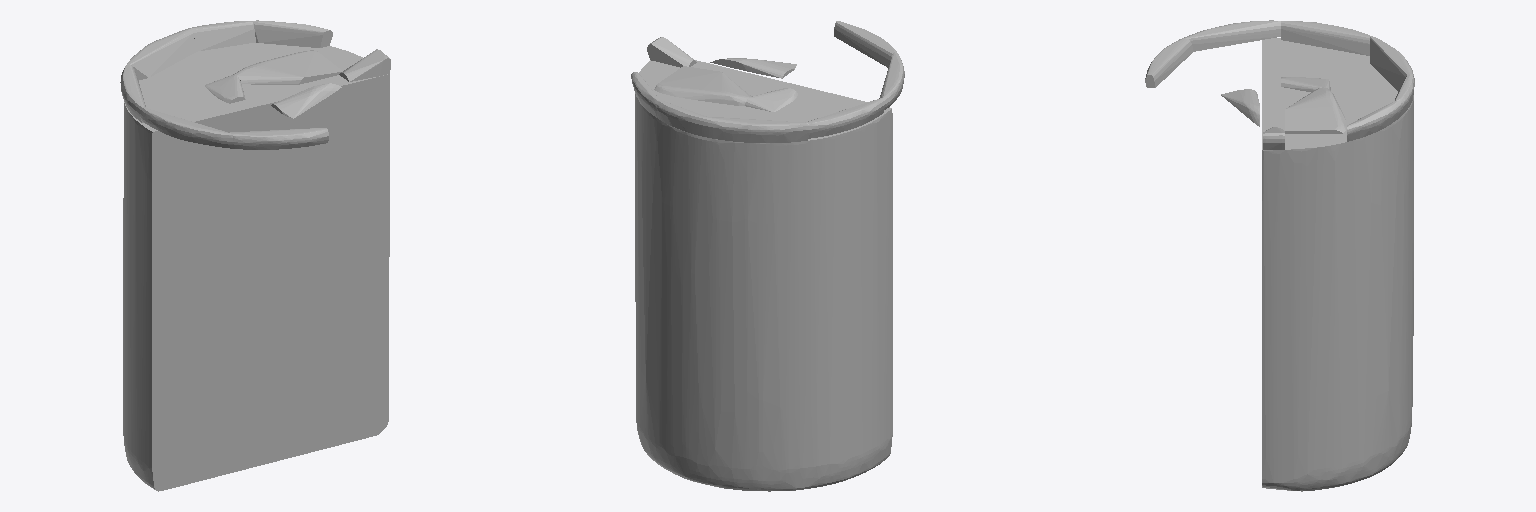
robot.urdf — root:
<robot name="root"><link name="body"><visual>
      <origin xyz="0 0 0" rpy="0 0 0" />
      <geometry>
        <mesh filename="coacd_convex_piece_0.obj" scale="1.0000E+00 1.0000E+00 1.0000E+00" />
      </geometry>
      <material name="">
        <color rgba="7.50E-01 7.50E-01 7.50E-01 1" />
      </material>
    </visual>
    <collision>
      <origin xyz="0 0 0" rpy="0 0 0" />
      <geometry>
        <mesh filename="coacd_convex_piece_0.obj" scale="1.0000E+00 1.0000E+00 1.0000E+00" />
      </geometry>
    </collision>
  <visual>
      <origin xyz="0 0 0" rpy="0 0 0" />
      <geometry>
        <mesh filename="coacd_convex_piece_1.obj" scale="1.0000E+00 1.0000E+00 1.0000E+00" />
      </geometry>
      <material name="">
        <color rgba="7.50E-01 7.50E-01 7.50E-01 1" />
      </material>
    </visual>
    <collision>
      <origin xyz="0 0 0" rpy="0 0 0" />
      <geometry>
        <mesh filename="coacd_convex_piece_1.obj" scale="1.0000E+00 1.0000E+00 1.0000E+00" />
      </geometry>
    </collision>
  <visual>
      <origin xyz="0 0 0" rpy="0 0 0" />
      <geometry>
        <mesh filename="coacd_convex_piece_2.obj" scale="1.0000E+00 1.0000E+00 1.0000E+00" />
      </geometry>
      <material name="">
        <color rgba="7.50E-01 7.50E-01 7.50E-01 1" />
      </material>
    </visual>
    <collision>
      <origin xyz="0 0 0" rpy="0 0 0" />
      <geometry>
        <mesh filename="coacd_convex_piece_2.obj" scale="1.0000E+00 1.0000E+00 1.0000E+00" />
      </geometry>
    </collision>
  <visual>
      <origin xyz="0 0 0" rpy="0 0 0" />
      <geometry>
        <mesh filename="coacd_convex_piece_3.obj" scale="1.0000E+00 1.0000E+00 1.0000E+00" />
      </geometry>
      <material name="">
        <color rgba="7.50E-01 7.50E-01 7.50E-01 1" />
      </material>
    </visual>
    <collision>
      <origin xyz="0 0 0" rpy="0 0 0" />
      <geometry>
        <mesh filename="coacd_convex_piece_3.obj" scale="1.0000E+00 1.0000E+00 1.0000E+00" />
      </geometry>
    </collision>
  <visual>
      <origin xyz="0 0 0" rpy="0 0 0" />
      <geometry>
        <mesh filename="coacd_convex_piece_4.obj" scale="1.0000E+00 1.0000E+00 1.0000E+00" />
      </geometry>
      <material name="">
        <color rgba="7.50E-01 7.50E-01 7.50E-01 1" />
      </material>
    </visual>
    <collision>
      <origin xyz="0 0 0" rpy="0 0 0" />
      <geometry>
        <mesh filename="coacd_convex_piece_4.obj" scale="1.0000E+00 1.0000E+00 1.0000E+00" />
      </geometry>
    </collision>
  <visual>
      <origin xyz="0 0 0" rpy="0 0 0" />
      <geometry>
        <mesh filename="coacd_convex_piece_5.obj" scale="1.0000E+00 1.0000E+00 1.0000E+00" />
      </geometry>
      <material name="">
        <color rgba="7.50E-01 7.50E-01 7.50E-01 1" />
      </material>
    </visual>
    <collision>
      <origin xyz="0 0 0" rpy="0 0 0" />
      <geometry>
        <mesh filename="coacd_convex_piece_5.obj" scale="1.0000E+00 1.0000E+00 1.0000E+00" />
      </geometry>
    </collision>
  <visual>
      <origin xyz="0 0 0" rpy="0 0 0" />
      <geometry>
        <mesh filename="coacd_convex_piece_6.obj" scale="1.0000E+00 1.0000E+00 1.0000E+00" />
      </geometry>
      <material name="">
        <color rgba="7.50E-01 7.50E-01 7.50E-01 1" />
      </material>
    </visual>
    <collision>
      <origin xyz="0 0 0" rpy="0 0 0" />
      <geometry>
        <mesh filename="coacd_convex_piece_6.obj" scale="1.0000E+00 1.0000E+00 1.0000E+00" />
      </geometry>
    </collision>
  <visual>
      <origin xyz="0 0 0" rpy="0 0 0" />
      <geometry>
        <mesh filename="coacd_convex_piece_7.obj" scale="1.0000E+00 1.0000E+00 1.0000E+00" />
      </geometry>
      <material name="">
        <color rgba="7.50E-01 7.50E-01 7.50E-01 1" />
      </material>
    </visual>
    <collision>
      <origin xyz="0 0 0" rpy="0 0 0" />
      <geometry>
        <mesh filename="coacd_convex_piece_7.obj" scale="1.0000E+00 1.0000E+00 1.0000E+00" />
      </geometry>
    </collision>
  <visual>
      <origin xyz="0 0 0" rpy="0 0 0" />
      <geometry>
        <mesh filename="coacd_convex_piece_8.obj" scale="1.0000E+00 1.0000E+00 1.0000E+00" />
      </geometry>
      <material name="">
        <color rgba="7.50E-01 7.50E-01 7.50E-01 1" />
      </material>
    </visual>
    <collision>
      <origin xyz="0 0 0" rpy="0 0 0" />
      <geometry>
        <mesh filename="coacd_convex_piece_8.obj" scale="1.0000E+00 1.0000E+00 1.0000E+00" />
      </geometry>
    </collision>
  <visual>
      <origin xyz="0 0 0" rpy="0 0 0" />
      <geometry>
        <mesh filename="coacd_convex_piece_9.obj" scale="1.0000E+00 1.0000E+00 1.0000E+00" />
      </geometry>
      <material name="">
        <color rgba="7.50E-01 7.50E-01 7.50E-01 1" />
      </material>
    </visual>
    <collision>
      <origin xyz="0 0 0" rpy="0 0 0" />
      <geometry>
        <mesh filename="coacd_convex_piece_9.obj" scale="1.0000E+00 1.0000E+00 1.0000E+00" />
      </geometry>
    </collision>
  <visual>
      <origin xyz="0 0 0" rpy="0 0 0" />
      <geometry>
        <mesh filename="coacd_convex_piece_10.obj" scale="1.0000E+00 1.0000E+00 1.0000E+00" />
      </geometry>
      <material name="">
        <color rgba="7.50E-01 7.50E-01 7.50E-01 1" />
      </material>
    </visual>
    <collision>
      <origin xyz="0 0 0" rpy="0 0 0" />
      <geometry>
        <mesh filename="coacd_convex_piece_10.obj" scale="1.0000E+00 1.0000E+00 1.0000E+00" />
      </geometry>
    </collision>
  <visual>
      <origin xyz="0 0 0" rpy="0 0 0" />
      <geometry>
        <mesh filename="coacd_convex_piece_11.obj" scale="1.0000E+00 1.0000E+00 1.0000E+00" />
      </geometry>
      <material name="">
        <color rgba="7.50E-01 7.50E-01 7.50E-01 1" />
      </material>
    </visual>
    <collision>
      <origin xyz="0 0 0" rpy="0 0 0" />
      <geometry>
        <mesh filename="coacd_convex_piece_11.obj" scale="1.0000E+00 1.0000E+00 1.0000E+00" />
      </geometry>
    </collision>
  <visual>
      <origin xyz="0 0 0" rpy="0 0 0" />
      <geometry>
        <mesh filename="coacd_convex_piece_12.obj" scale="1.0000E+00 1.0000E+00 1.0000E+00" />
      </geometry>
      <material name="">
        <color rgba="7.50E-01 7.50E-01 7.50E-01 1" />
      </material>
    </visual>
    <collision>
      <origin xyz="0 0 0" rpy="0 0 0" />
      <geometry>
        <mesh filename="coacd_convex_piece_12.obj" scale="1.0000E+00 1.0000E+00 1.0000E+00" />
      </geometry>
    </collision>
  <visual>
      <origin xyz="0 0 0" rpy="0 0 0" />
      <geometry>
        <mesh filename="coacd_convex_piece_13.obj" scale="1.0000E+00 1.0000E+00 1.0000E+00" />
      </geometry>
      <material name="">
        <color rgba="7.50E-01 7.50E-01 7.50E-01 1" />
      </material>
    </visual>
    <collision>
      <origin xyz="0 0 0" rpy="0 0 0" />
      <geometry>
        <mesh filename="coacd_convex_piece_13.obj" scale="1.0000E+00 1.0000E+00 1.0000E+00" />
      </geometry>
    </collision>
  <visual>
      <origin xyz="0 0 0" rpy="0 0 0" />
      <geometry>
        <mesh filename="coacd_convex_piece_14.obj" scale="1.0000E+00 1.0000E+00 1.0000E+00" />
      </geometry>
      <material name="">
        <color rgba="7.50E-01 7.50E-01 7.50E-01 1" />
      </material>
    </visual>
    <collision>
      <origin xyz="0 0 0" rpy="0 0 0" />
      <geometry>
        <mesh filename="coacd_convex_piece_14.obj" scale="1.0000E+00 1.0000E+00 1.0000E+00" />
      </geometry>
    </collision>
  <visual>
      <origin xyz="0 0 0" rpy="0 0 0" />
      <geometry>
        <mesh filename="coacd_convex_piece_15.obj" scale="1.0000E+00 1.0000E+00 1.0000E+00" />
      </geometry>
      <material name="">
        <color rgba="7.50E-01 7.50E-01 7.50E-01 1" />
      </material>
    </visual>
    <collision>
      <origin xyz="0 0 0" rpy="0 0 0" />
      <geometry>
        <mesh filename="coacd_convex_piece_15.obj" scale="1.0000E+00 1.0000E+00 1.0000E+00" />
      </geometry>
    </collision>
  <visual>
      <origin xyz="0 0 0" rpy="0 0 0" />
      <geometry>
        <mesh filename="coacd_convex_piece_16.obj" scale="1.0000E+00 1.0000E+00 1.0000E+00" />
      </geometry>
      <material name="">
        <color rgba="7.50E-01 7.50E-01 7.50E-01 1" />
      </material>
    </visual>
    <collision>
      <origin xyz="0 0 0" rpy="0 0 0" />
      <geometry>
        <mesh filename="coacd_convex_piece_16.obj" scale="1.0000E+00 1.0000E+00 1.0000E+00" />
      </geometry>
    </collision>
  <visual>
      <origin xyz="0 0 0" rpy="0 0 0" />
      <geometry>
        <mesh filename="coacd_convex_piece_17.obj" scale="1.0000E+00 1.0000E+00 1.0000E+00" />
      </geometry>
      <material name="">
        <color rgba="7.50E-01 7.50E-01 7.50E-01 1" />
      </material>
    </visual>
    <collision>
      <origin xyz="0 0 0" rpy="0 0 0" />
      <geometry>
        <mesh filename="coacd_convex_piece_17.obj" scale="1.0000E+00 1.0000E+00 1.0000E+00" />
      </geometry>
    </collision>
  <visual>
      <origin xyz="0 0 0" rpy="0 0 0" />
      <geometry>
        <mesh filename="coacd_convex_piece_18.obj" scale="1.0000E+00 1.0000E+00 1.0000E+00" />
      </geometry>
      <material name="">
        <color rgba="7.50E-01 7.50E-01 7.50E-01 1" />
      </material>
    </visual>
    <collision>
      <origin xyz="0 0 0" rpy="0 0 0" />
      <geometry>
        <mesh filename="coacd_convex_piece_18.obj" scale="1.0000E+00 1.0000E+00 1.0000E+00" />
      </geometry>
    </collision>
  <visual>
      <origin xyz="0 0 0" rpy="0 0 0" />
      <geometry>
        <mesh filename="coacd_convex_piece_19.obj" scale="1.0000E+00 1.0000E+00 1.0000E+00" />
      </geometry>
      <material name="">
        <color rgba="7.50E-01 7.50E-01 7.50E-01 1" />
      </material>
    </visual>
    <collision>
      <origin xyz="0 0 0" rpy="0 0 0" />
      <geometry>
        <mesh filename="coacd_convex_piece_19.obj" scale="1.0000E+00 1.0000E+00 1.0000E+00" />
      </geometry>
    </collision>
  <visual>
      <origin xyz="0 0 0" rpy="0 0 0" />
      <geometry>
        <mesh filename="coacd_convex_piece_20.obj" scale="1.0000E+00 1.0000E+00 1.0000E+00" />
      </geometry>
      <material name="">
        <color rgba="7.50E-01 7.50E-01 7.50E-01 1" />
      </material>
    </visual>
    <collision>
      <origin xyz="0 0 0" rpy="0 0 0" />
      <geometry>
        <mesh filename="coacd_convex_piece_20.obj" scale="1.0000E+00 1.0000E+00 1.0000E+00" />
      </geometry>
    </collision>
  </link></robot>

--- Facts derived from the render (not from the file) ---
The picture shows the robot from 3 angles, left to right: view 1: azimuth 30°, elevation 25°; view 2: azimuth 150°, elevation 25°; view 3: azimuth 270°, elevation 25°; orthographic projection.
Robot: root — 1 links, 0 joints (none); root link body; default pose: every joint at zero.
Links seen in each view (by area): view 1: body; view 2: body; view 3: body.
Link boxes in pixels (x1,y1,x2,y2): body: (120,20,390,491); body: (631,21,904,491); body: (1145,20,1414,491).
Size in the robot's own frame: 1.1 by 1.09 by 1.64 metres.
11 mesh visuals loaded from 21 distinct referenced files (11 OBJ); not drawn: 10 (reference not matched to a file when rendering).